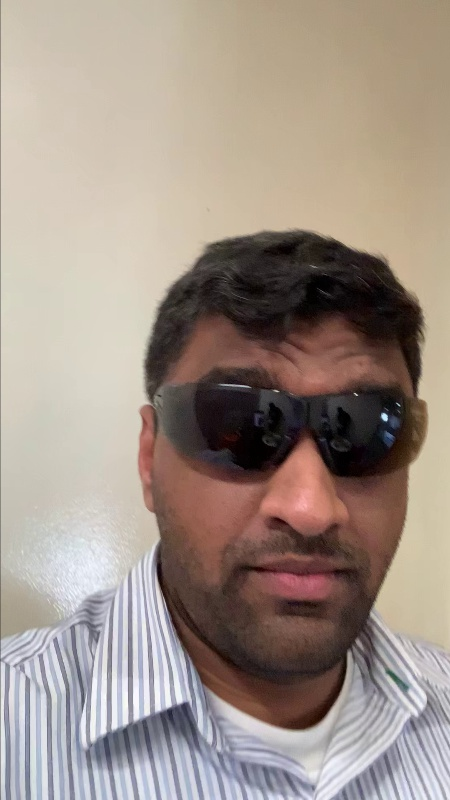glasses: (141, 364, 447, 491)
